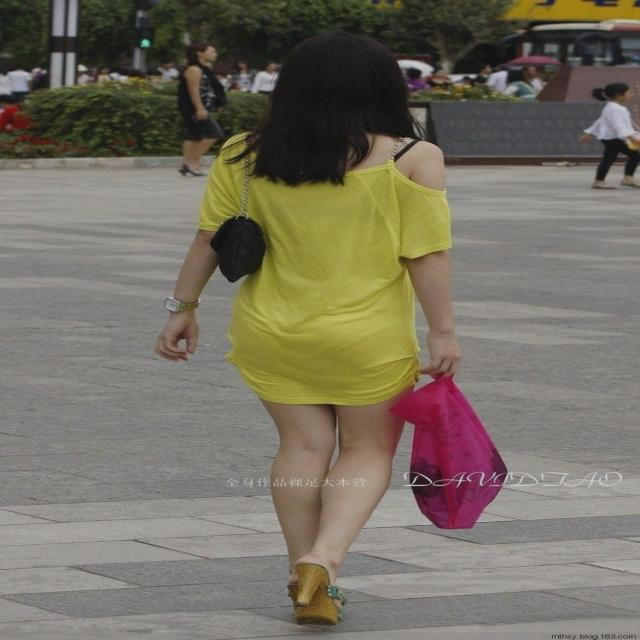non-fight: (156, 25, 466, 624)
